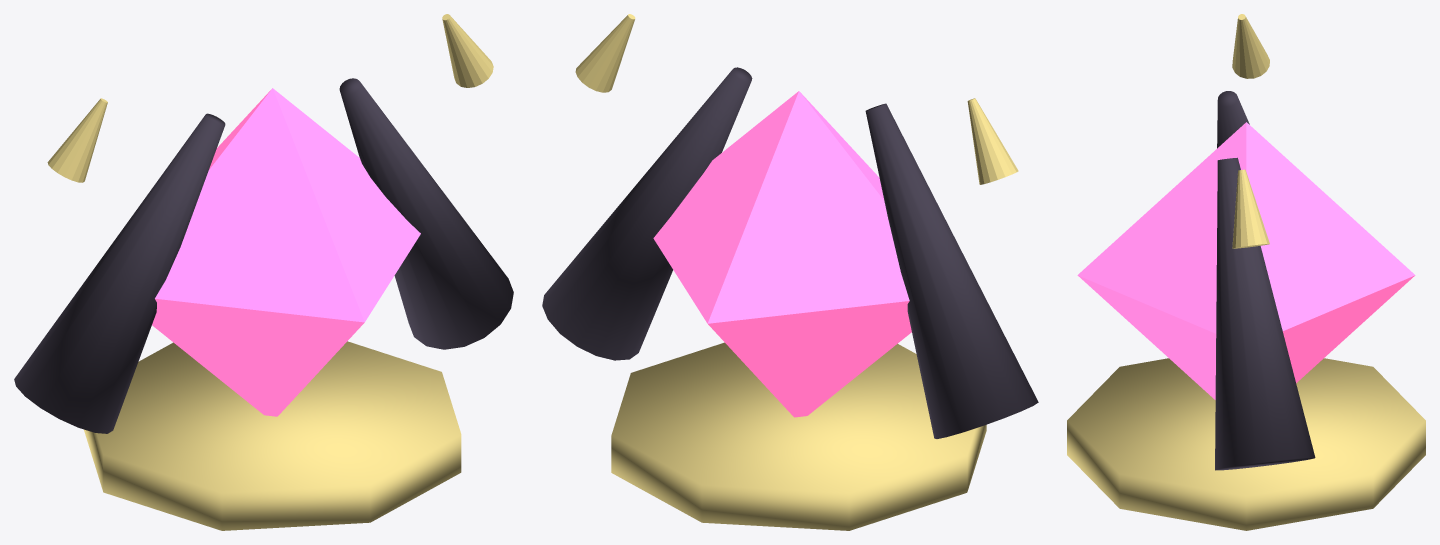
File: Damage_Boost_Overdrive.glb
The picture shows the model from 3 angles, left to right: view 1: azimuth 30°, elevation 25°; view 2: azimuth 150°, elevation 25°; view 3: azimuth 270°, elevation 25°; orthographic projection. The views are drawn at different scales.
Parts seen in each view (by area): view 1: GEO-damage_crown_base, GEO-damage_ruby_core, GEO-damage_horn_-1, GEO-damage_horn_1, GEO-damage_horn_tip_-1, GEO-damage_horn_tip_1; view 2: GEO-damage_ruby_core, GEO-damage_crown_base, GEO-damage_horn_-1, GEO-damage_horn_1, GEO-damage_horn_tip_1, GEO-damage_horn_tip_-1; view 3: GEO-damage_crown_base, GEO-damage_ruby_core, GEO-damage_horn_1, GEO-damage_horn_tip_1, GEO-damage_horn_tip_-1, GEO-damage_horn_-1.
Boxes of the visible parts, x1=… form: GEO-damage_crown_base: x1=84, y1=341, x2=461, y2=530; GEO-damage_ruby_core: x1=152, y1=88, x2=420, y2=416; GEO-damage_horn_-1: x1=14, y1=113, x2=225, y2=433; GEO-damage_horn_1: x1=339, y1=78, x2=513, y2=349; GEO-damage_horn_tip_-1: x1=47, y1=98, x2=107, y2=182; GEO-damage_horn_tip_1: x1=442, y1=14, x2=493, y2=87; GEO-damage_ruby_core: x1=653, y1=91, x2=911, y2=417; GEO-damage_crown_base: x1=611, y1=342, x2=986, y2=530; GEO-damage_horn_-1: x1=865, y1=103, x2=1038, y2=438; GEO-damage_horn_1: x1=542, y1=67, x2=752, y2=360; GEO-damage_horn_tip_1: x1=575, y1=14, x2=635, y2=92; GEO-damage_horn_tip_-1: x1=967, y1=98, x2=1018, y2=184; GEO-damage_crown_base: x1=1067, y1=358, x2=1425, y2=530; GEO-damage_ruby_core: x1=1077, y1=122, x2=1415, y2=399; GEO-damage_horn_1: x1=1215, y1=157, x2=1315, y2=470; GEO-damage_horn_tip_1: x1=1232, y1=169, x2=1269, y2=248; GEO-damage_horn_tip_-1: x1=1232, y1=14, x2=1269, y2=78; GEO-damage_horn_-1: x1=1217, y1=91, x2=1249, y2=148.
Size of the model in its own units: 0.3998 by 0.3129 by 0.28.
